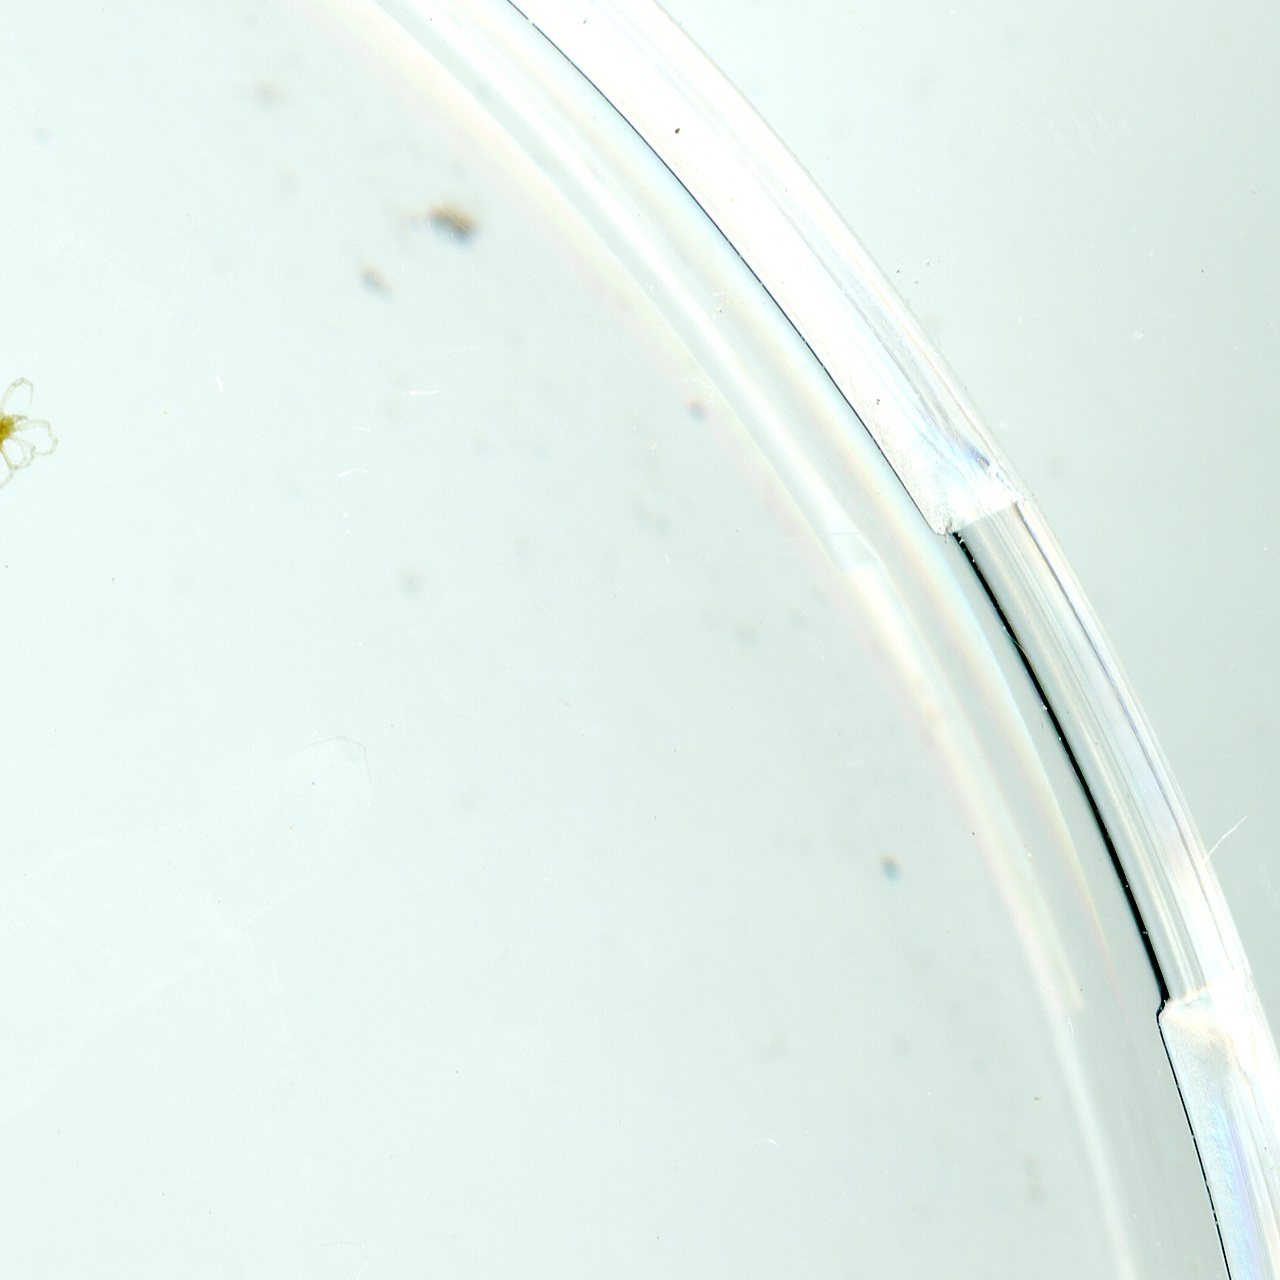arthropod: (0, 361, 90, 518)
